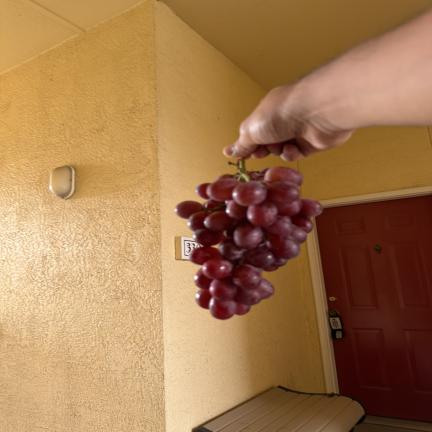grape_cluster: (175, 161, 322, 319)
